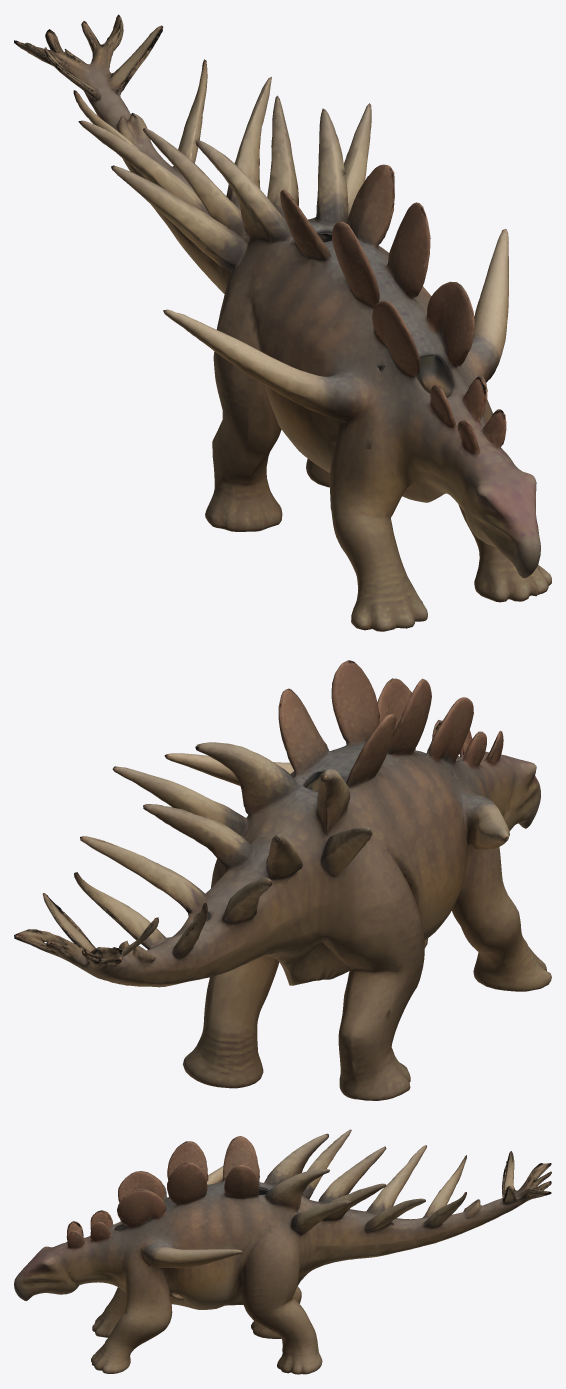
3 views of the same model, one above another, from view 1: azimuth 30°, elevation 25°; view 2: azimuth 150°, elevation 25°; view 3: azimuth 270°, elevation 25° (orthographic). The views are drawn at different scales.
Visible parts, largest first — view 1: world; view 2: world; view 3: world.
Boxes of the visible parts, bbox=[...] form: world: bbox=[14, 14, 551, 631]; world: bbox=[14, 660, 551, 1100]; world: bbox=[14, 1129, 551, 1374].
Size of the model in its own units: 2.11 by 2.05 by 5.01.
Materials: 1 (1 with a texture image).
